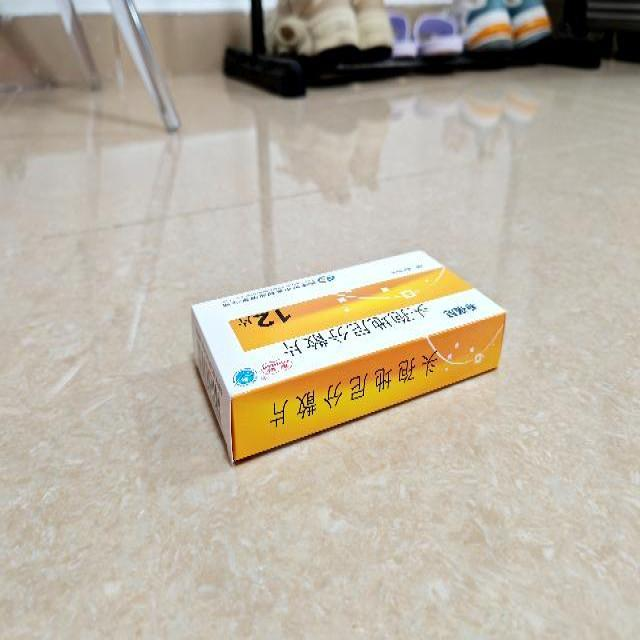box: (192, 250, 508, 465)
